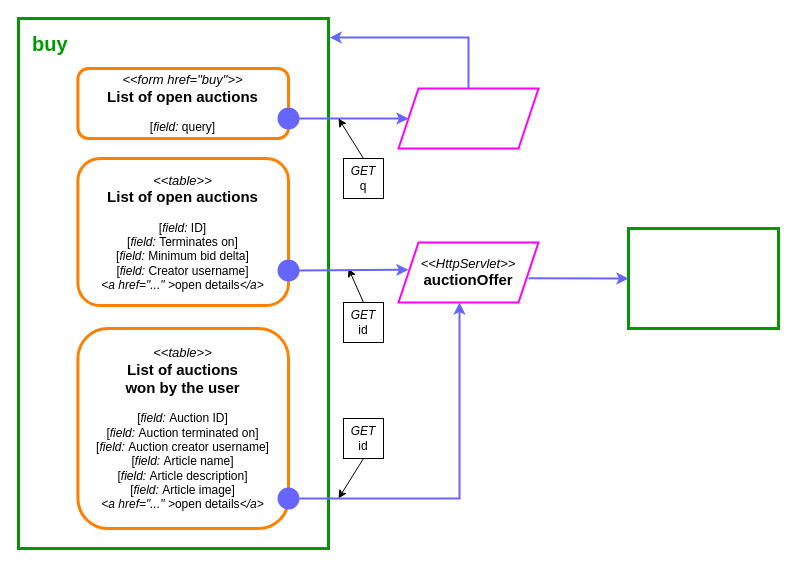
Image size: 797x567. Some labels were removed from this diagram. Here are the shapes that lost their labels. From the top down, the centre of each, then its label:
pixel 468 118: <<HttpServlet>> buy
pixel 703 278: auctionOffer
